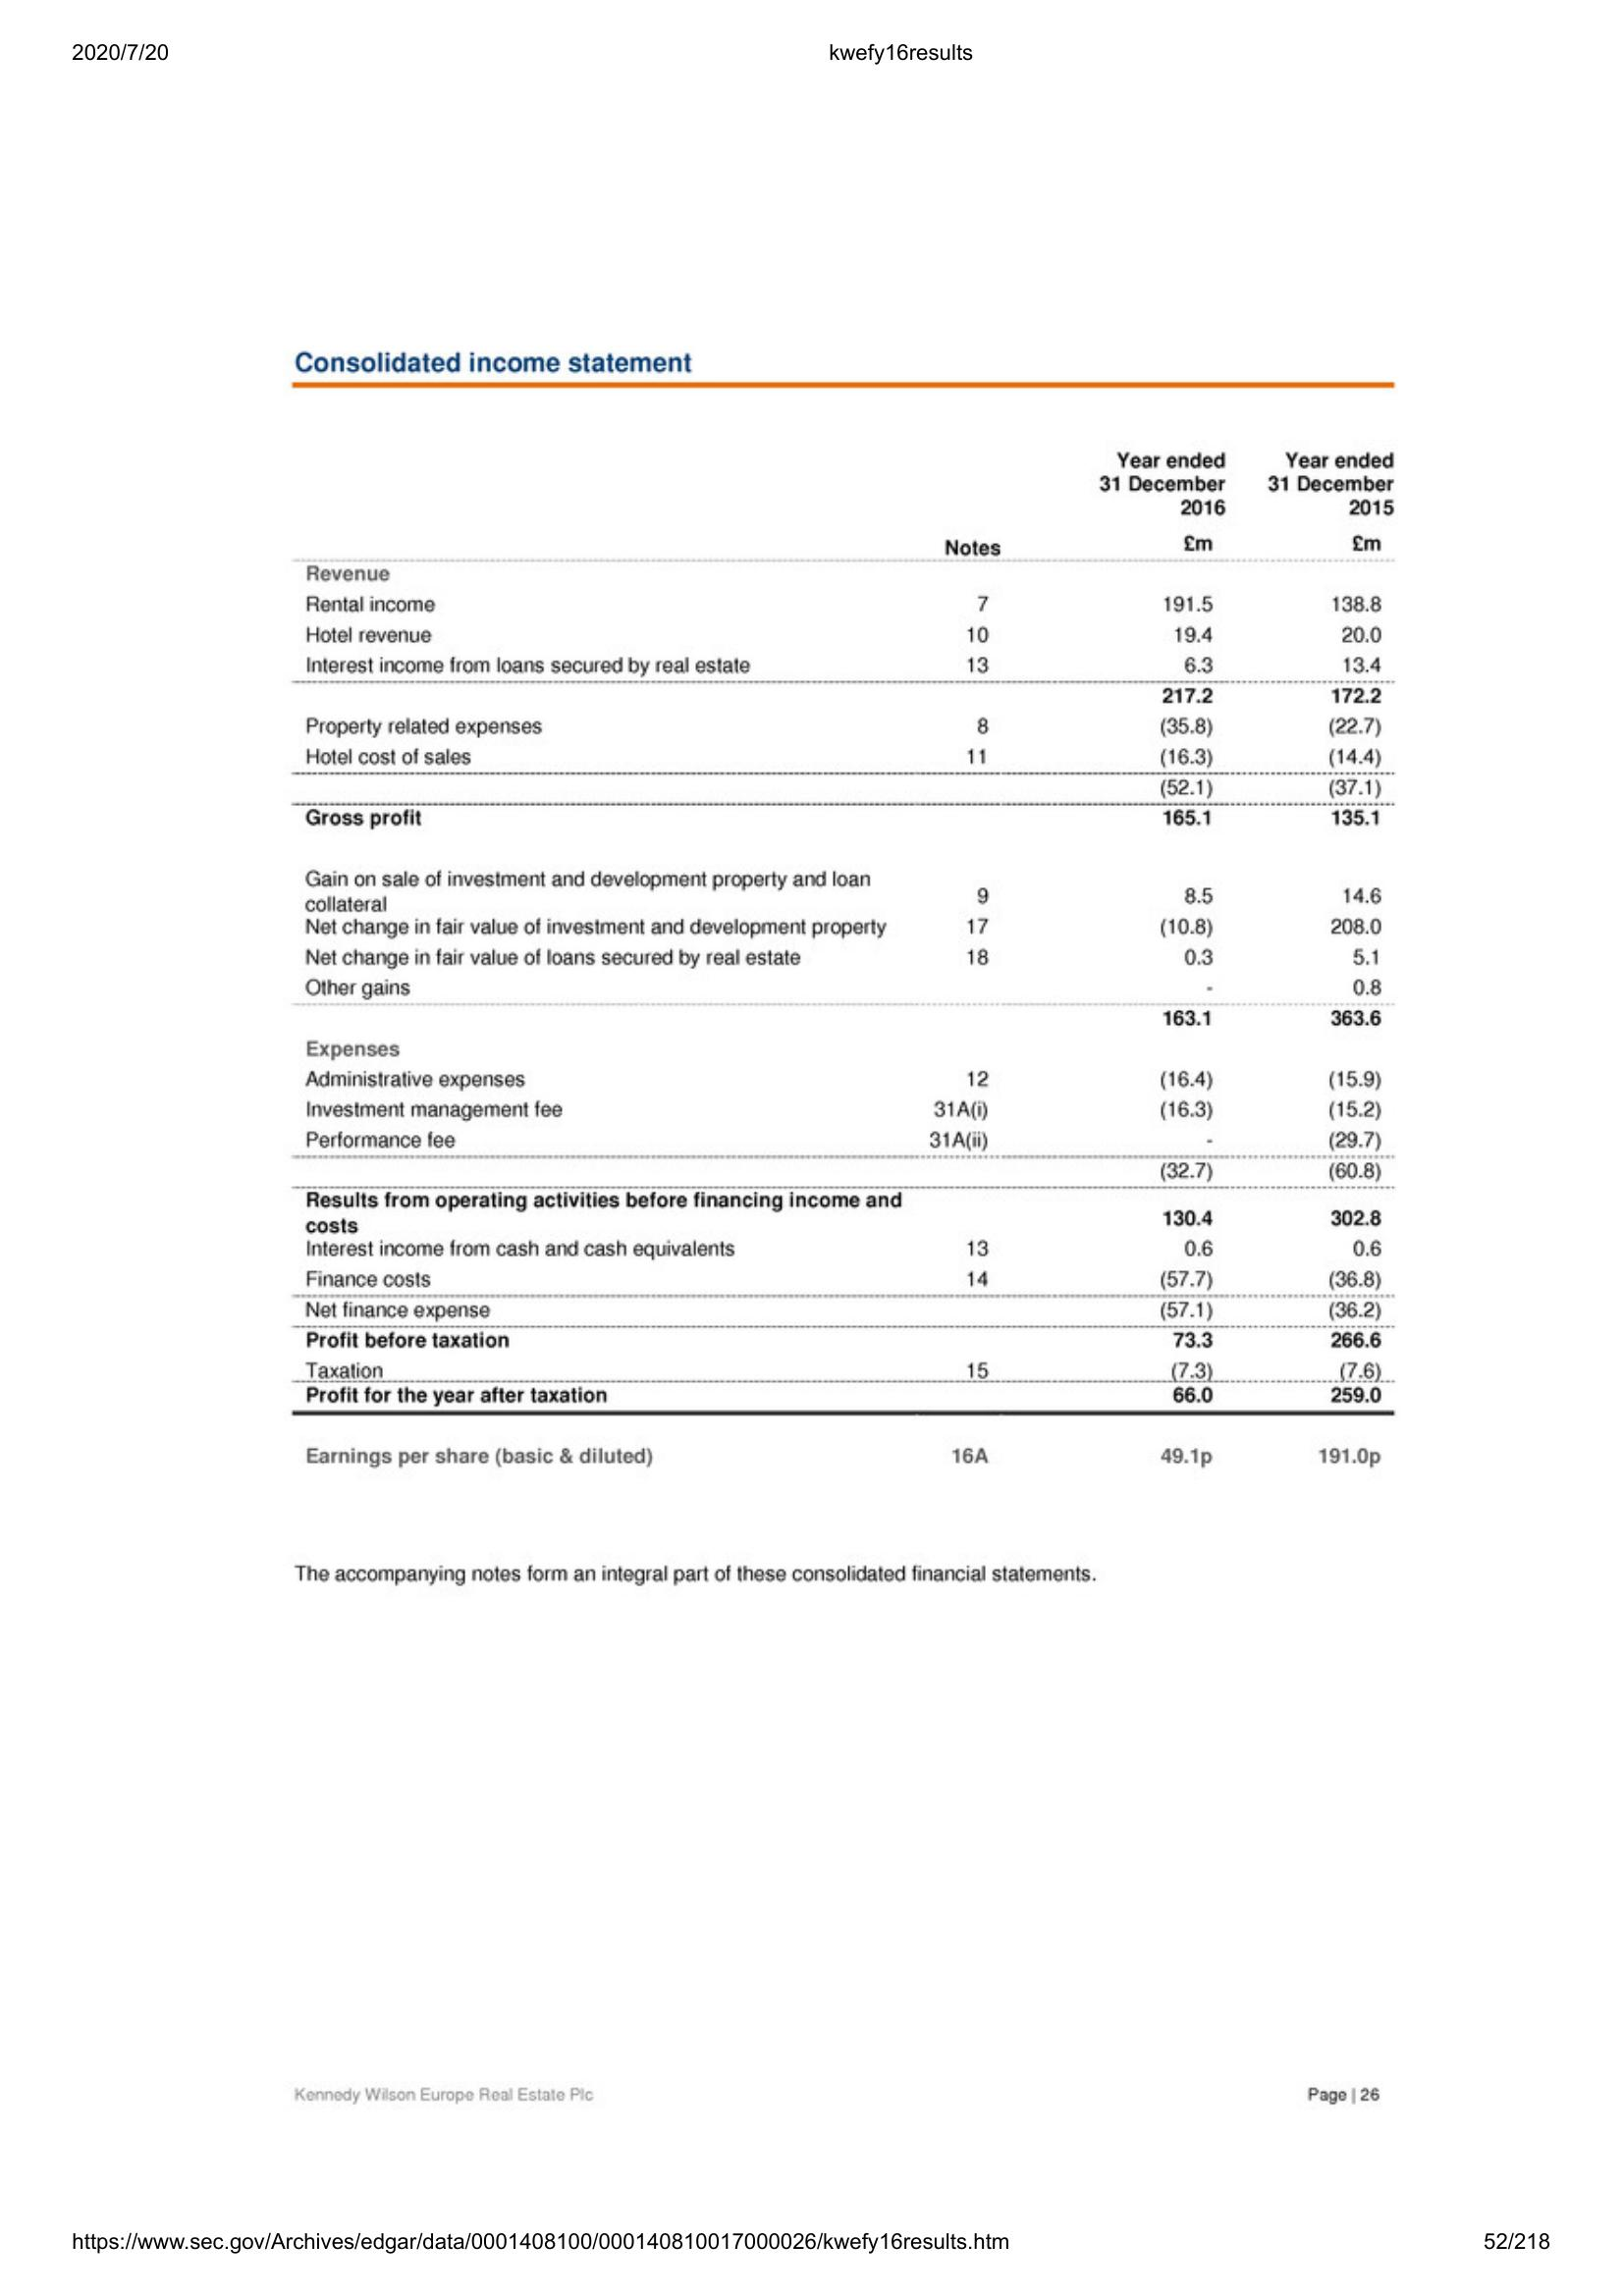table: (288, 367, 1402, 1483)
